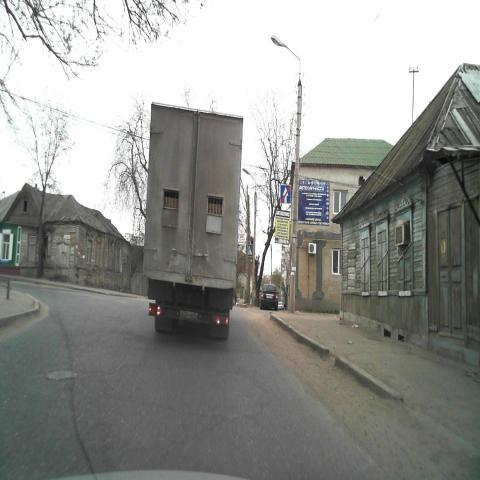5_19_1: (246, 243, 253, 257)
5_6: (280, 184, 290, 204)
